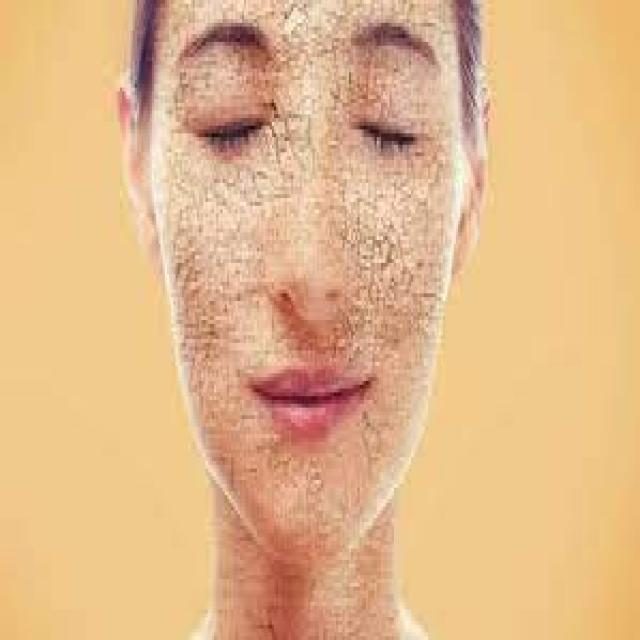dry: (153, 142, 288, 346), (280, 0, 366, 296), (227, 408, 387, 542), (342, 151, 435, 367), (224, 553, 397, 640), (164, 2, 279, 119), (368, 0, 465, 127), (175, 302, 257, 444)
